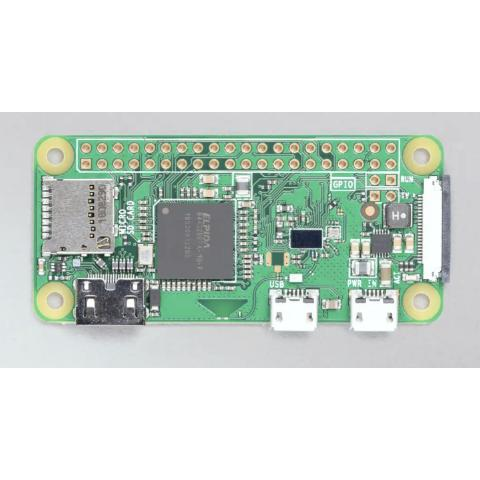Raspberry-Pi-Zero-W: (33, 135, 451, 333)
